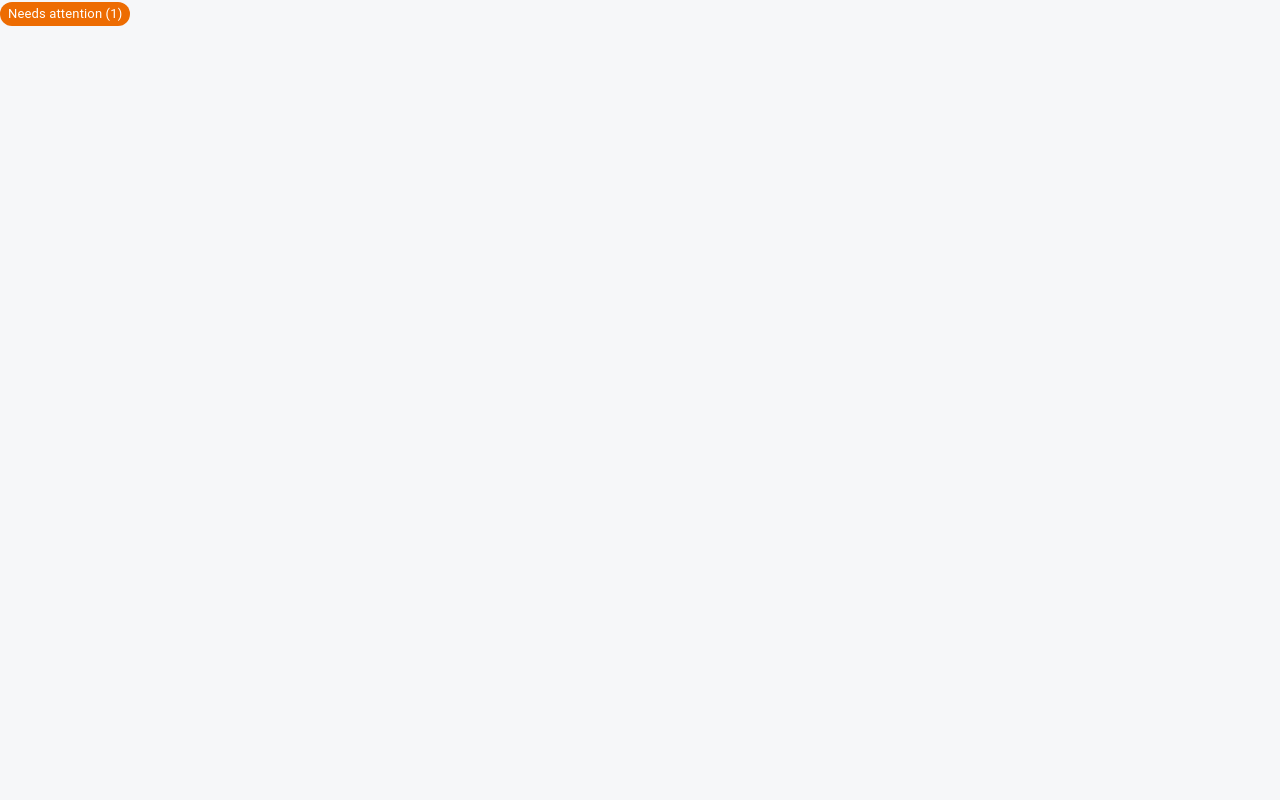
Scenario: HealthChip › shows what was checked, what follows and the one thing to do
Click the button with test id "health-chip" at coordinates (65, 14), box [0,2,130,26]
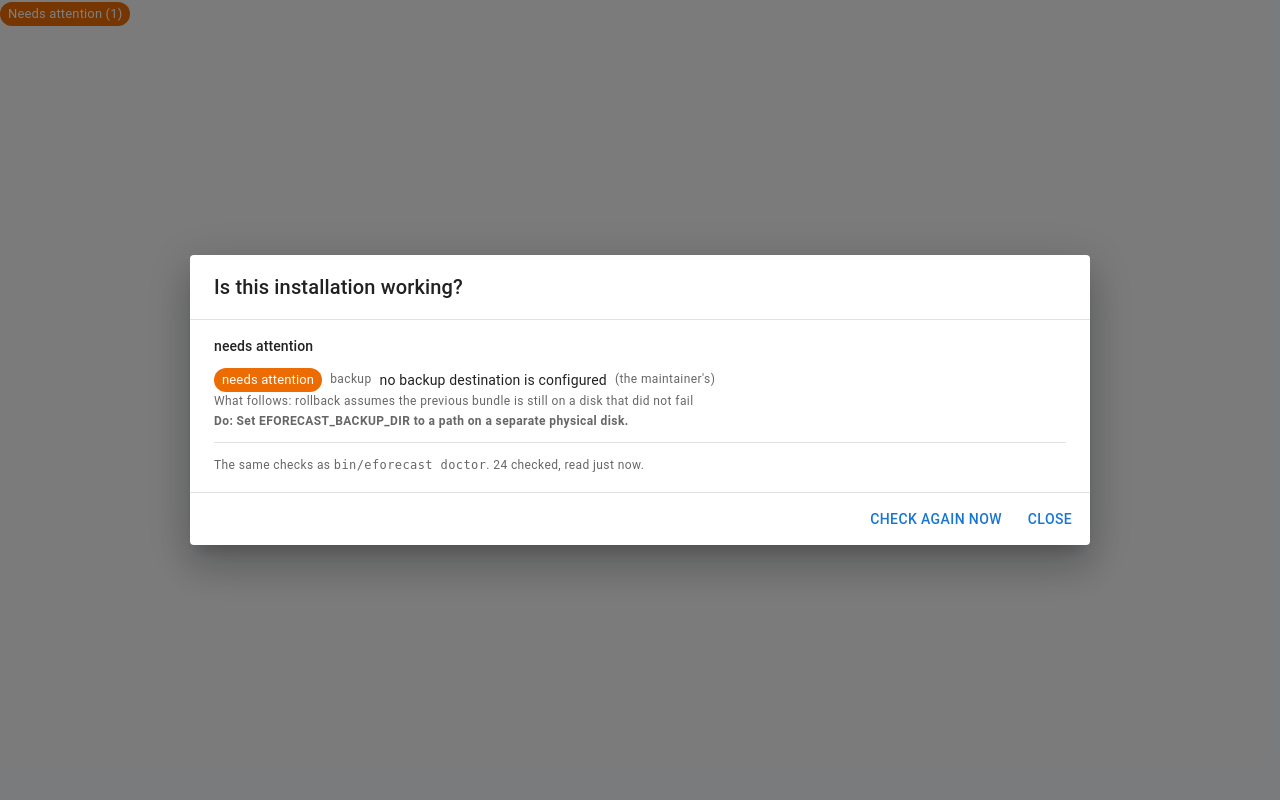
Result: the list item with test id "health-finding-backup" shows "no backup destination is configured" at [380,372,607,388]
Result: the list item with test id "health-finding-backup" shows "rollback assumes the previous bundle" at [295,394,694,408]
Result: the list item with test id "health-finding-backup" shows "Set EFORECAST_BACKUP_DIR" at [237,414,629,428]
